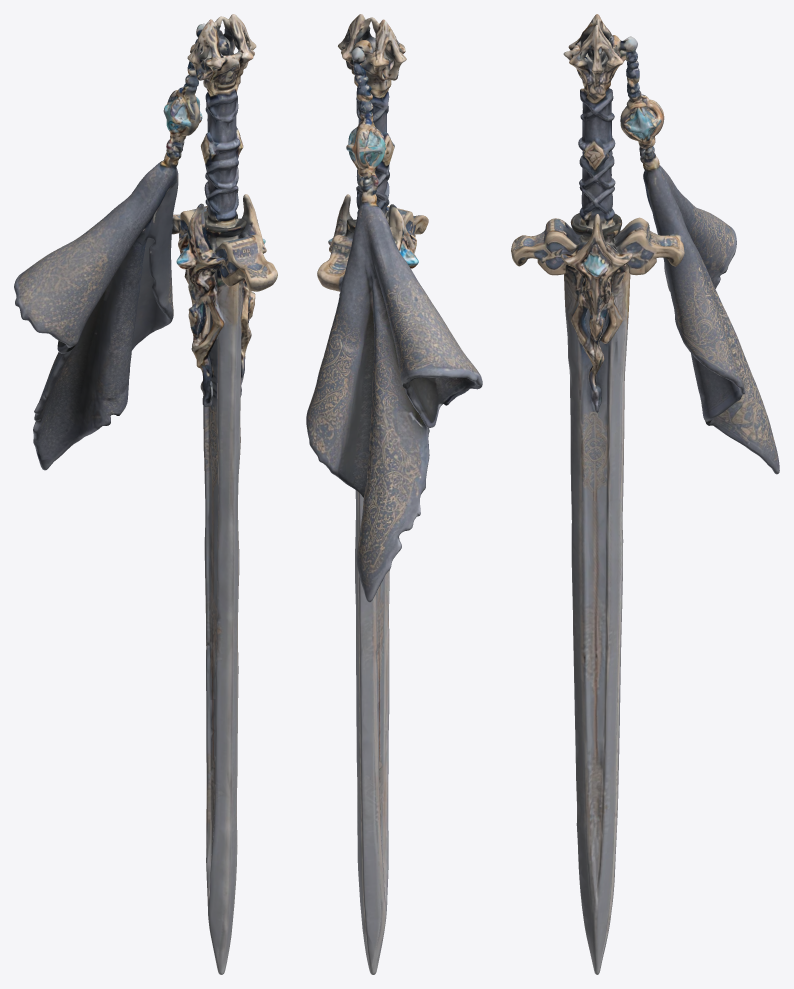
Rendered from sword.optimized.glb.
3 views of the same model, side by side, from view 1: azimuth 30°, elevation 25°; view 2: azimuth 150°, elevation 25°; view 3: azimuth 270°, elevation 25° (orthographic).
Parts seen in each view (by area): view 1: tripo_node_78d6738f-5f8a-4903-bd8d-ccffdd26d806; view 2: tripo_node_78d6738f-5f8a-4903-bd8d-ccffdd26d806; view 3: tripo_node_78d6738f-5f8a-4903-bd8d-ccffdd26d806.
Part boxes in pixels (x1,y1,x2,y2): tripo_node_78d6738f-5f8a-4903-bd8d-ccffdd26d806: [14, 14, 277, 974]; tripo_node_78d6738f-5f8a-4903-bd8d-ccffdd26d806: [306, 14, 482, 974]; tripo_node_78d6738f-5f8a-4903-bd8d-ccffdd26d806: [511, 14, 779, 974].
Size of the model in its own units: 0.2174 by 1 by 0.255.
1 material, 1 textured.
